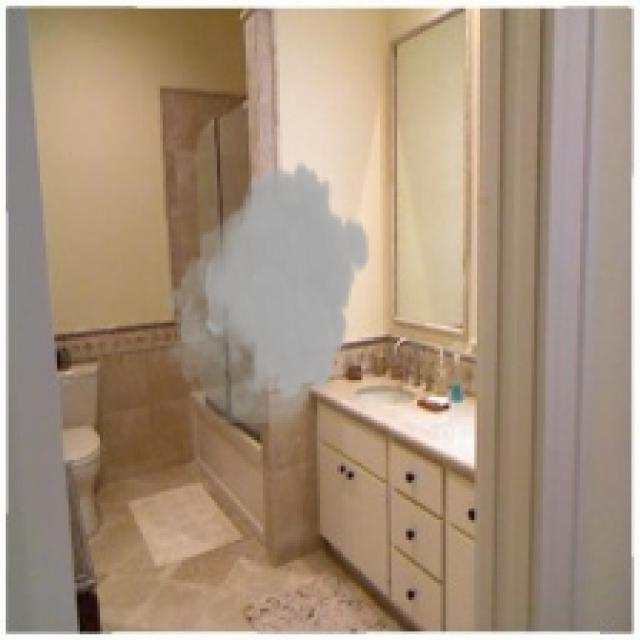Smoke: (160, 157, 372, 423)
